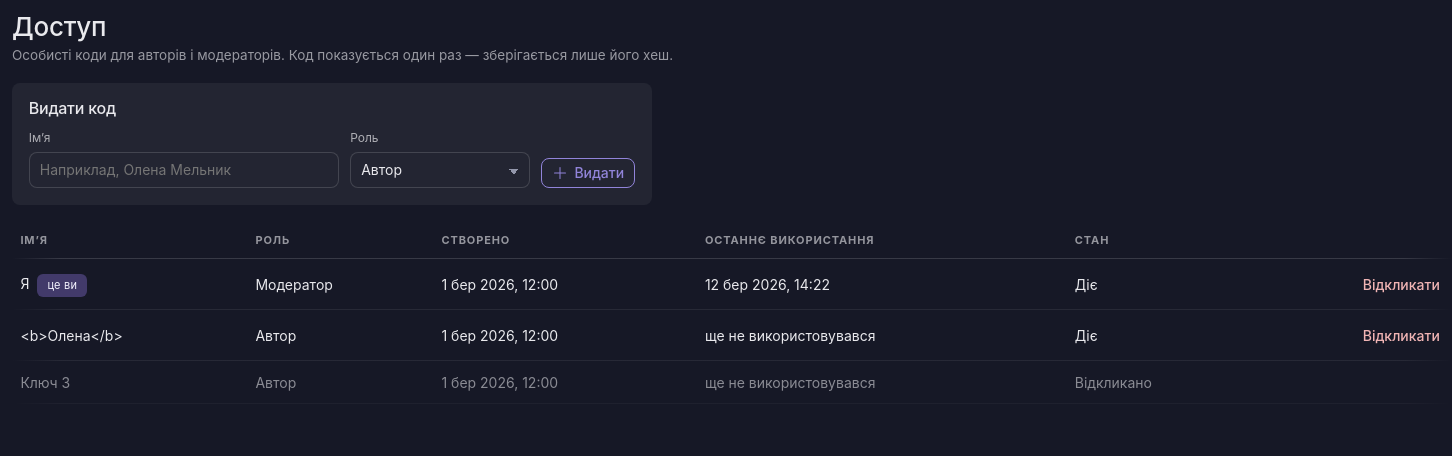
Scenario: AccessComponent › a failed revoke shows the message and keeps the session
Click the button "Відкликати" in the row of "це ви" at x=1401, y=285, box left=1359, top=270, right=1444, bottom=300
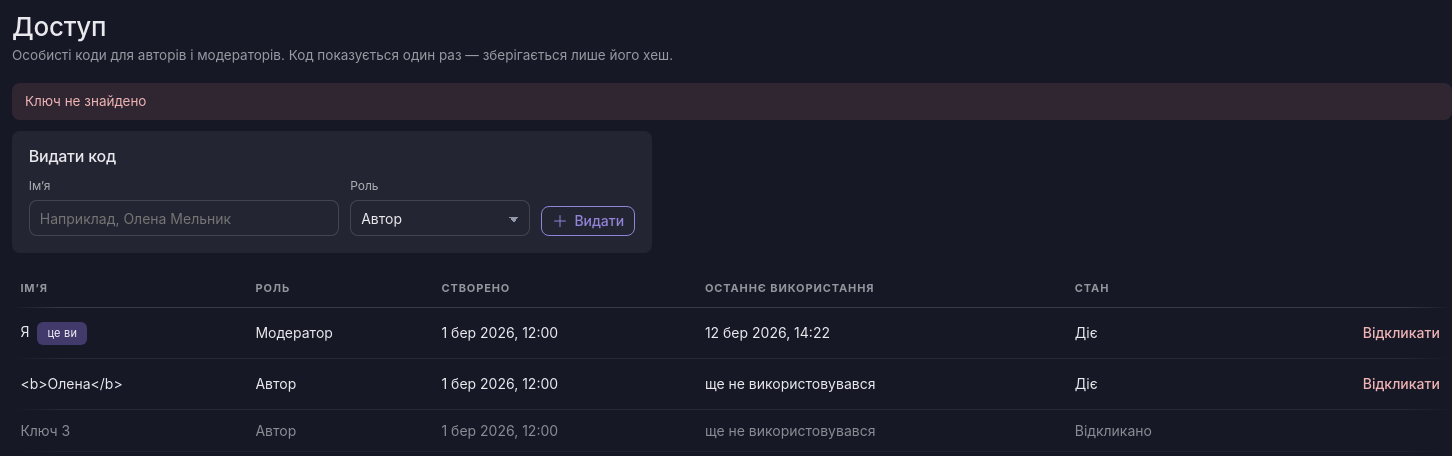
Expected: the message "Ключ не знайдено" is shown, left=12, top=83, right=1451, bottom=120
